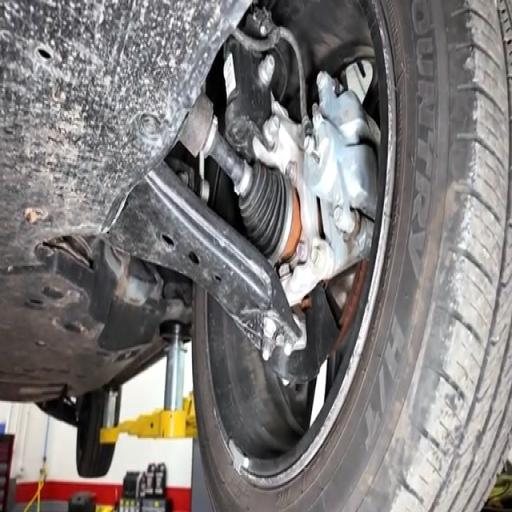tire: (192, 0, 511, 511), (76, 390, 115, 477)
wheel: (192, 0, 511, 511)
